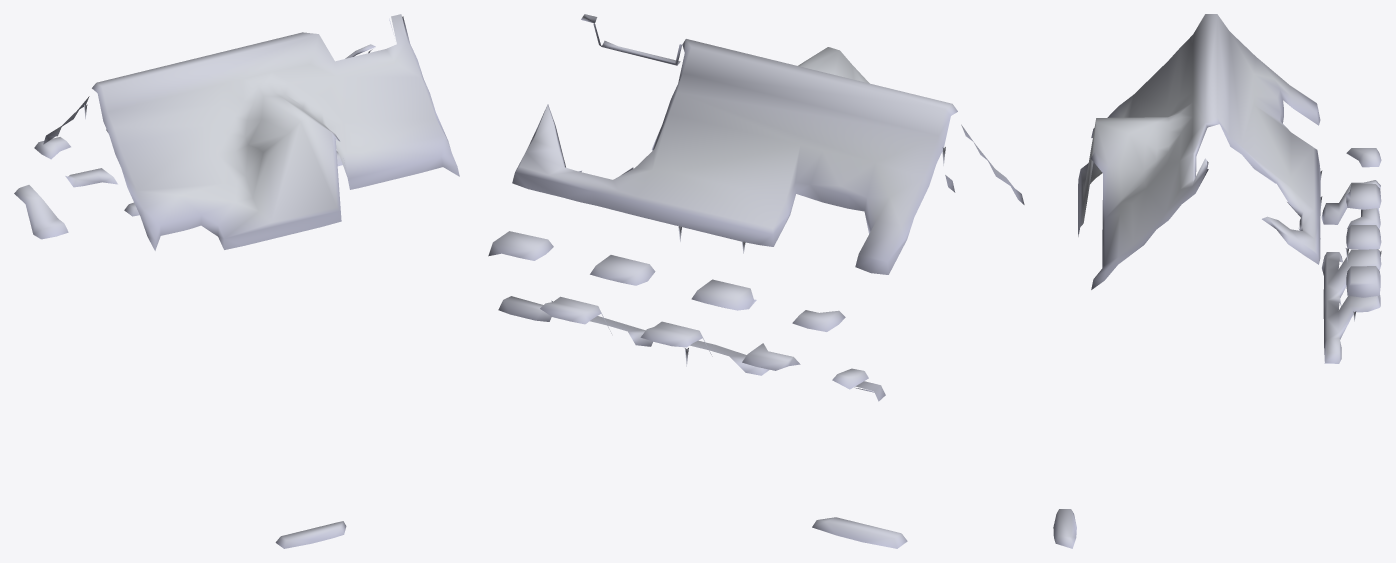
File: hall.wallet.t1.snow.glb
3 views of the same model, side by side, from view 1: azimuth 30°, elevation 25°; view 2: azimuth 150°, elevation 25°; view 3: azimuth 270°, elevation 25° (orthographic). The views are drawn at different scales.
Parts seen in each view (by area): view 1: snow; view 2: snow; view 3: snow.
Part boxes in pixels (x1,y1,x2,y2): snow: (14, 14, 459, 548); snow: (488, 14, 1024, 548); snow: (1053, 14, 1381, 548).
Size of the model in its own units: 3.9 by 5.25 by 3.5.
